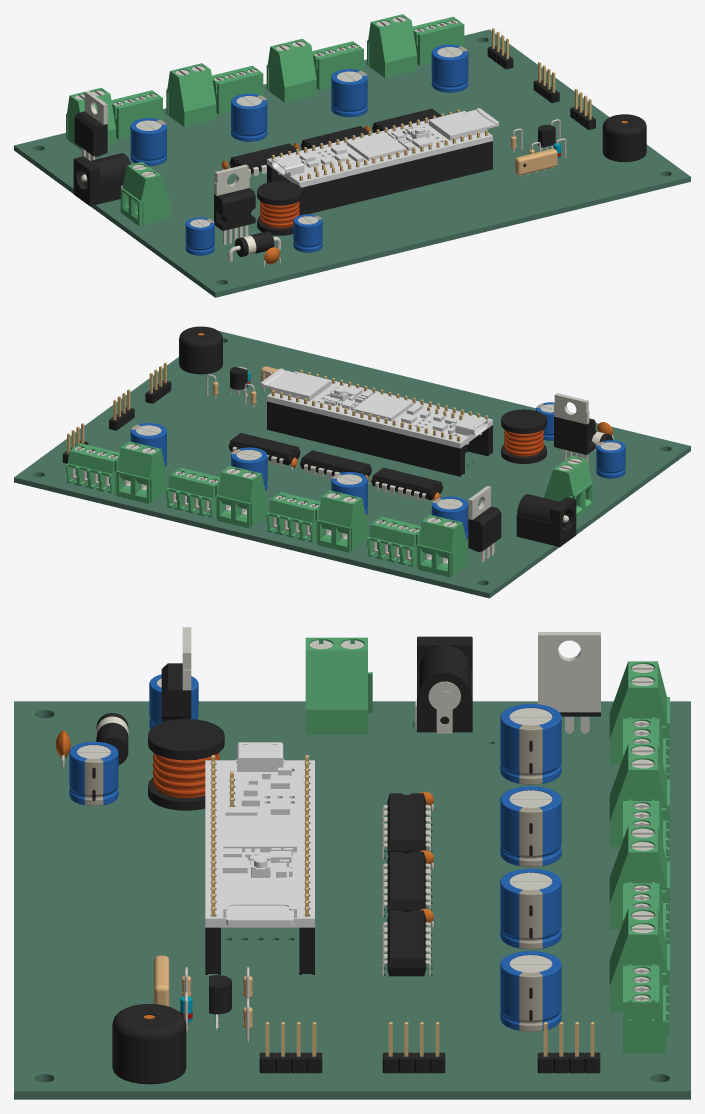
File: monture_ext.glb
3 renders of one model, top to bottom at view 1: azimuth 30°, elevation 25°; view 2: azimuth 150°, elevation 25°; view 3: azimuth 270°, elevation 25°, orthographic. The views are drawn at different scales.
Visible parts, largest first — view 1: =>[0:1:1:48], =>[0:1:1:17] (×5), =>[0:1:1:41], =>[0:1:1:23] (×4), =>[0:1:1:19] (×4), =>[0:1:1:33], =>[0:1:1:5], =>[0:1:1:7], =>[0:1:1:25] (×3), =>[0:1:1:43] (×2), =>[0:1:1:29], =>[0:1:1:3] (+5 smaller); view 2: =>[0:1:1:48], =>[0:1:1:17] (×5), =>[0:1:1:19] (×4), =>[0:1:1:41], =>[0:1:1:33] (×2), =>[0:1:1:25] (×3), =>[0:1:1:23] (×4), =>[0:1:1:7], =>[0:1:1:29], =>[0:1:1:5], =>[0:1:1:35] (×2), =>[0:1:1:3] (+3 smaller); view 3: =>[0:1:1:48], =>[0:1:1:17] (×5), =>[0:1:1:23] (×4), =>[0:1:1:41], =>[0:1:1:25] (×3), =>[0:1:1:19] (×4), =>[0:1:1:15] (×3), =>[0:1:1:29], =>[0:1:1:7], =>[0:1:1:3], =>[0:1:1:21], =>[0:1:1:43] (×2) (+6 smaller).
Boxes of the visible parts, left/top/right/bottom form: =>[0:1:1:48]: left=14, top=29, right=690, bottom=297; =>[0:1:1:17] (×5): left=66, top=14, right=417, bottom=226; =>[0:1:1:41]: left=267, top=108, right=498, bottom=187; =>[0:1:1:23] (×4): left=130, top=44, right=468, bottom=166; =>[0:1:1:19] (×4): left=111, top=16, right=464, bottom=139; =>[0:1:1:33]: left=299, top=141, right=492, bottom=215; =>[0:1:1:5]: left=214, top=164, right=255, bottom=244; =>[0:1:1:7]: left=73, top=153, right=131, bottom=206; =>[0:1:1:25] (×3): left=229, top=108, right=440, bottom=176; =>[0:1:1:43] (×2): left=185, top=214, right=322, bottom=255; =>[0:1:1:29]: left=257, top=181, right=302, bottom=235; =>[0:1:1:3]: left=602, top=114, right=646, bottom=162; =>[0:1:1:48]: left=14, top=331, right=690, bottom=598; =>[0:1:1:17] (×5): left=115, top=441, right=593, bottom=577; =>[0:1:1:19] (×4): left=66, top=443, right=420, bottom=566; =>[0:1:1:41]: left=261, top=368, right=492, bottom=448; =>[0:1:1:33] (×2): left=267, top=401, right=492, bottom=476; =>[0:1:1:25] (×3): left=228, top=433, right=443, bottom=502; =>[0:1:1:23] (×4): left=130, top=423, right=468, bottom=539; =>[0:1:1:7]: left=516, top=494, right=576, bottom=547; =>[0:1:1:29]: left=501, top=409, right=546, bottom=463; =>[0:1:1:5]: left=554, top=393, right=595, bottom=463; =>[0:1:1:35] (×2): left=269, top=370, right=492, bottom=465; =>[0:1:1:3]: left=179, top=326, right=222, bottom=374; =>[0:1:1:48]: left=14, top=701, right=690, bottom=1099; =>[0:1:1:17] (×5): left=305, top=637, right=669, bottom=1011; =>[0:1:1:23] (×4): left=500, top=704, right=561, bottom=1031; =>[0:1:1:41]: left=205, top=742, right=314, bottom=927; =>[0:1:1:25] (×3): left=382, top=793, right=430, bottom=976; =>[0:1:1:19] (×4): left=623, top=717, right=669, bottom=1053; =>[0:1:1:15] (×3): left=259, top=1022, right=600, bottom=1073; =>[0:1:1:29]: left=148, top=719, right=224, bottom=810; =>[0:1:1:7]: left=415, top=636, right=472, bottom=733; =>[0:1:1:3]: left=112, top=1004, right=186, bottom=1084; =>[0:1:1:21]: left=538, top=632, right=600, bottom=733; =>[0:1:1:43] (×2): left=69, top=674, right=198, bottom=806.
Size of the model in its own units: 0.1518 by 0.0306 by 0.11.
